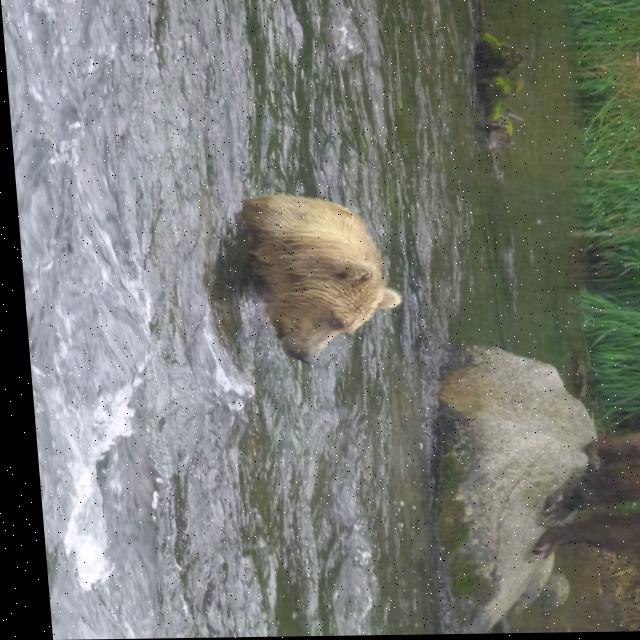bear face: (226, 198, 405, 366), (511, 419, 640, 584)
